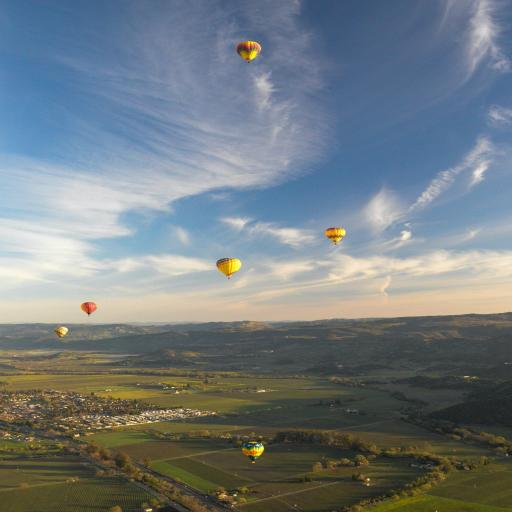hot air ballon: (236, 41, 261, 63), (217, 258, 242, 279), (242, 442, 264, 463), (326, 227, 345, 245), (80, 302, 97, 316), (54, 327, 68, 339)
